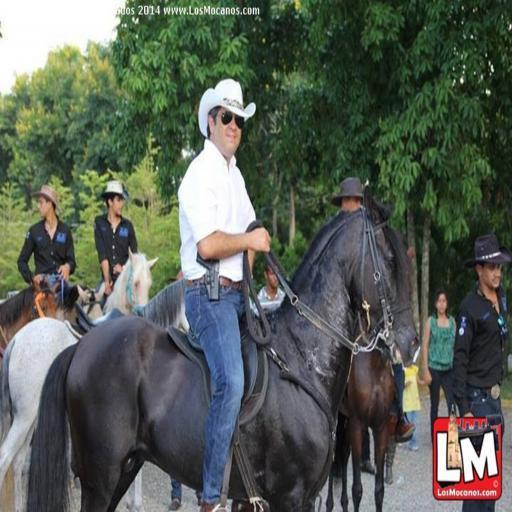horse: (24, 182, 418, 512), (0, 274, 192, 511), (325, 230, 415, 512), (101, 245, 159, 510), (56, 282, 106, 487), (0, 272, 60, 362)
